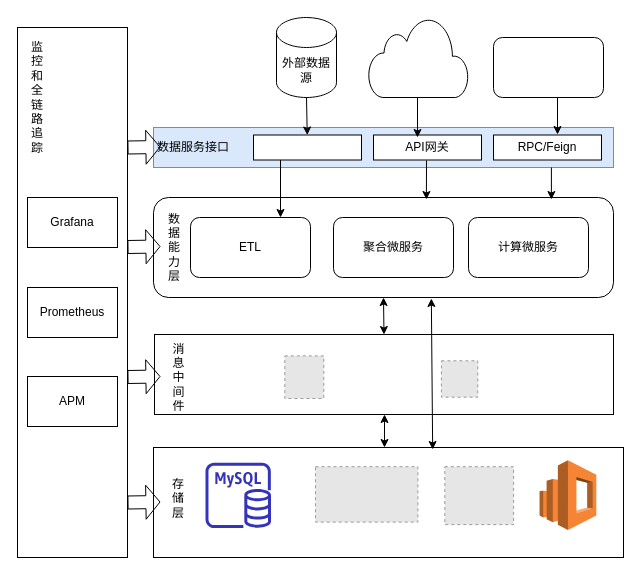
Image size: 641x575. Some labels were removed from this diagram. Grey dashed boxes stand in for pictures. Here are the shapes that lost their labels. From the top down, the centre of each, then its label:
At (x=418, y=57): "外网apps".
At (x=548, y=67): "内网apps".
At (x=307, y=147): "数据源转化".
